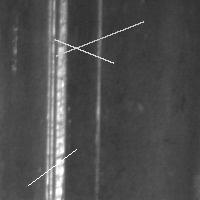scratches: (41, 1, 70, 199), (51, 17, 148, 61), (91, 1, 106, 199), (23, 144, 81, 190), (50, 34, 118, 67), (195, 81, 200, 111)
